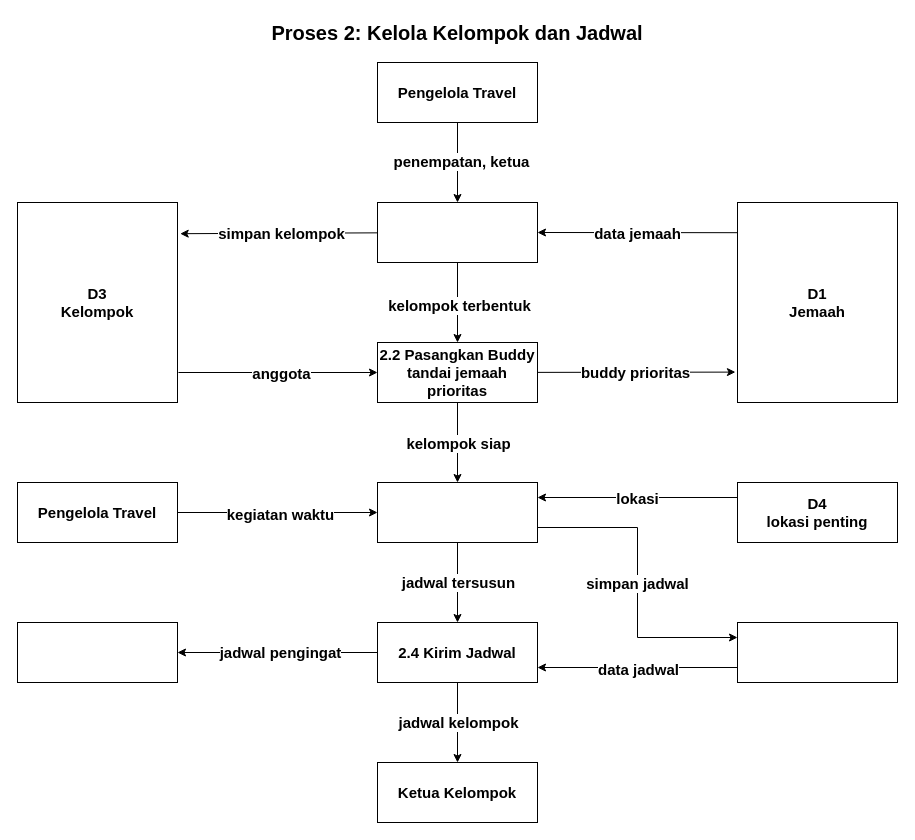
The diagram is 915 pixels wide and 840 high, and some of its shapes have lost their labels. Each missing label, with the centre of its shape:
"2.1 Susun Kelompok bagi jemaah, pilih ketua" goes at point (457, 232).
"2.3 Susun Jadwal kegiatan dan lokasi" goes at point (457, 512).
"D2 paket dan jadwal" goes at point (817, 652).
"Jemaah" goes at point (97, 652).
